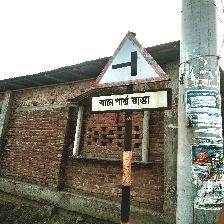Side-road-left: (89, 30, 170, 114)
